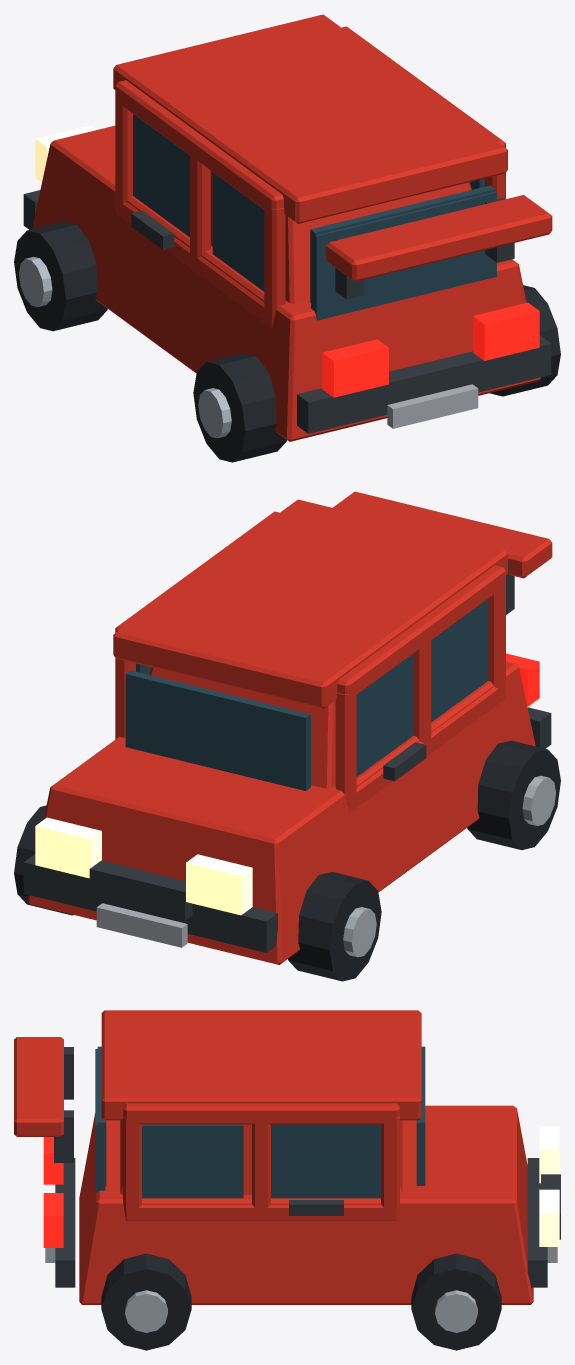
Rendered from npc_toy_hatchback.glb.
3 views of the same model, one above another, from view 1: azimuth 30°, elevation 25°; view 2: azimuth 150°, elevation 25°; view 3: azimuth 270°, elevation 25° (orthographic). The views are drawn at different scales.
Visible parts, largest first — view 1: NPC_Toy_Hatchback_Paint, NPC_Toy_Hatchback_Glass, NPC_Toy_Hatchback_Trim, npc_toy_hatchback_Wheel_RL_Tire, npc_toy_hatchback_Wheel_FL_Tire, NPC_Toy_Hatchback_Rear, NPC_Toy_Hatchback_Silver, npc_toy_hatchback_Wheel_RR_Tire, npc_toy_hatchback_Wheel_FL_Hub, npc_toy_hatchback_Wheel_RL_Hub, NPC_Toy_Hatchback_Light; view 2: NPC_Toy_Hatchback_Paint, NPC_Toy_Hatchback_Glass, NPC_Toy_Hatchback_Trim, NPC_Toy_Hatchback_Light, npc_toy_hatchback_Wheel_FL_Tire, npc_toy_hatchback_Wheel_RL_Tire, NPC_Toy_Hatchback_Silver, npc_toy_hatchback_Wheel_FL_Hub, npc_toy_hatchback_Wheel_RL_Hub, npc_toy_hatchback_Wheel_FR_Tire, NPC_Toy_Hatchback_Rear; view 3: NPC_Toy_Hatchback_Paint, NPC_Toy_Hatchback_Glass, NPC_Toy_Hatchback_Trim, npc_toy_hatchback_Wheel_FR_Tire, npc_toy_hatchback_Wheel_RR_Tire, NPC_Toy_Hatchback_Light, NPC_Toy_Hatchback_Rear, npc_toy_hatchback_Wheel_FR_Hub, npc_toy_hatchback_Wheel_RR_Hub.
Part boxes in pixels (x1,y1,x2,y2): NPC_Toy_Hatchback_Paint: [32, 14, 552, 441]; NPC_Toy_Hatchback_Glass: [133, 114, 496, 320]; NPC_Toy_Hatchback_Trim: [23, 190, 551, 433]; npc_toy_hatchback_Wheel_RL_Tire: [193, 353, 286, 462]; npc_toy_hatchback_Wheel_FL_Tire: [14, 221, 107, 331]; NPC_Toy_Hatchback_Rear: [322, 302, 539, 397]; NPC_Toy_Hatchback_Silver: [387, 384, 478, 428]; npc_toy_hatchback_Wheel_RR_Tire: [490, 285, 560, 396]; npc_toy_hatchback_Wheel_FL_Hub: [19, 256, 52, 307]; npc_toy_hatchback_Wheel_RL_Hub: [198, 388, 231, 438]; NPC_Toy_Hatchback_Light: [35, 125, 96, 182]; NPC_Toy_Hatchback_Paint: [27, 491, 552, 964]; NPC_Toy_Hatchback_Glass: [125, 599, 488, 790]; NPC_Toy_Hatchback_Trim: [23, 560, 551, 952]; NPC_Toy_Hatchback_Light: [35, 817, 252, 915]; npc_toy_hatchback_Wheel_FL_Tire: [288, 872, 381, 981]; npc_toy_hatchback_Wheel_RL_Tire: [467, 740, 560, 849]; NPC_Toy_Hatchback_Silver: [96, 903, 187, 947]; npc_toy_hatchback_Wheel_FL_Hub: [343, 907, 376, 957]; npc_toy_hatchback_Wheel_RL_Hub: [522, 775, 555, 825]; npc_toy_hatchback_Wheel_FR_Tire: [14, 805, 73, 915]; NPC_Toy_Hatchback_Rear: [506, 653, 539, 706]; NPC_Toy_Hatchback_Paint: [14, 1010, 533, 1304]; NPC_Toy_Hatchback_Glass: [95, 1046, 425, 1198]; NPC_Toy_Hatchback_Trim: [54, 1047, 560, 1287]; npc_toy_hatchback_Wheel_FR_Tire: [411, 1253, 501, 1350]; npc_toy_hatchback_Wheel_RR_Tire: [101, 1253, 191, 1350]; NPC_Toy_Hatchback_Light: [539, 1126, 559, 1246]; NPC_Toy_Hatchback_Rear: [43, 1137, 63, 1247]; npc_toy_hatchback_Wheel_FR_Hub: [435, 1290, 477, 1332]; npc_toy_hatchback_Wheel_RR_Hub: [125, 1290, 167, 1332].
Bounding box in the file's own units: 1.33 × 1.01 × 2.19.
